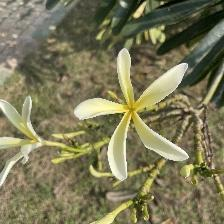champaka: (74, 47, 192, 185), (1, 94, 46, 187)
